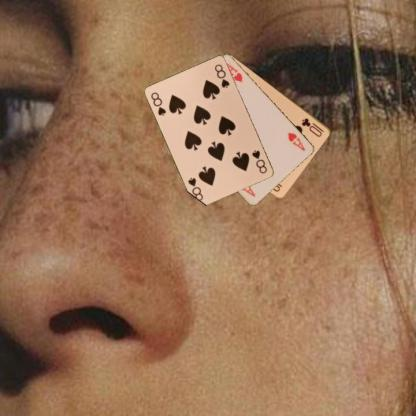10c: (300, 115, 326, 138)
8s: (148, 90, 167, 117), (250, 147, 268, 175)
Ah: (286, 130, 306, 152)
